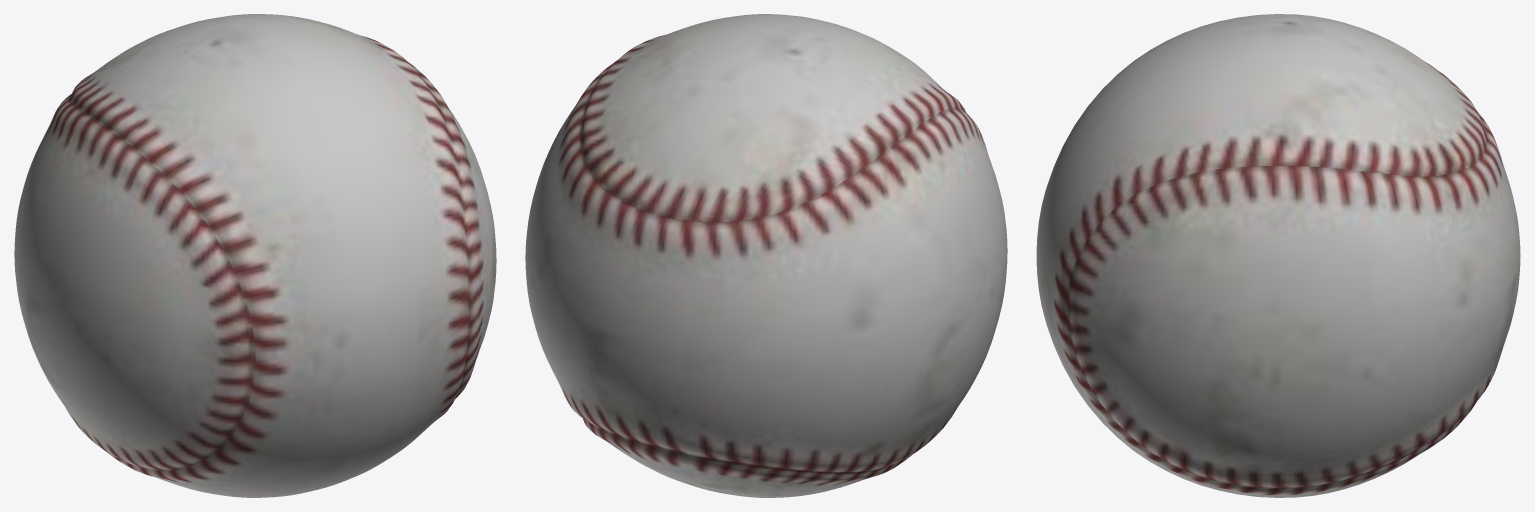
Rendered from baseball_01.glb.
The picture shows the model from 3 angles, left to right: view 1: azimuth 30°, elevation 25°; view 2: azimuth 150°, elevation 25°; view 3: azimuth 270°, elevation 25°; orthographic projection.
Visible parts, largest first — view 1: baseball_01; view 2: baseball_01; view 3: baseball_01.
Part boxes in pixels (box(x1,y1,x2,y2)): baseball_01: box(14, 14, 496, 497); baseball_01: box(525, 14, 1007, 497); baseball_01: box(1036, 14, 1520, 497).
Bounding box in the file's own units: 0.0735 × 0.0753 × 0.0752.
1 material, 1 textured.
